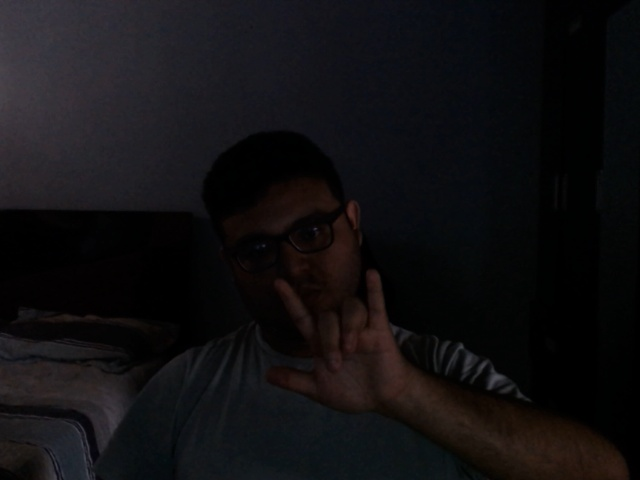I love you: (261, 268, 416, 423)
